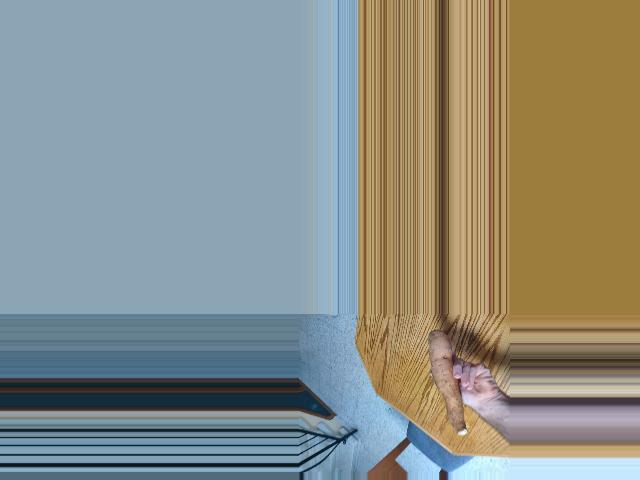sweet_potato: (422, 332, 473, 434)
